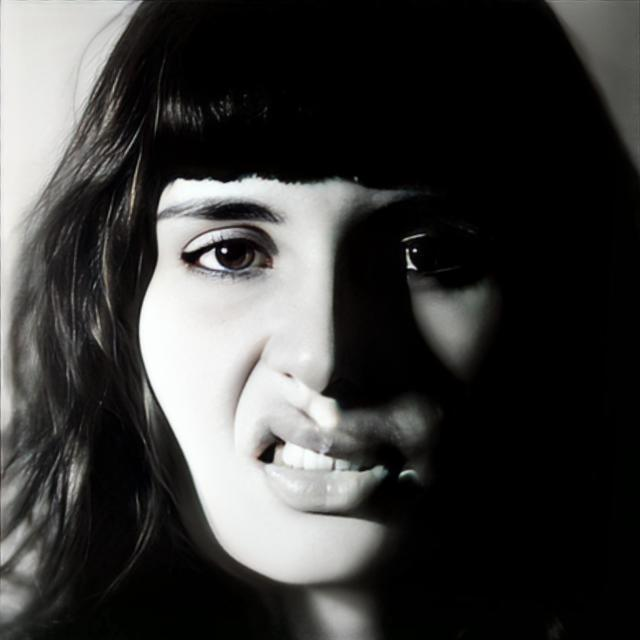disgust: (134, 153, 509, 591)
